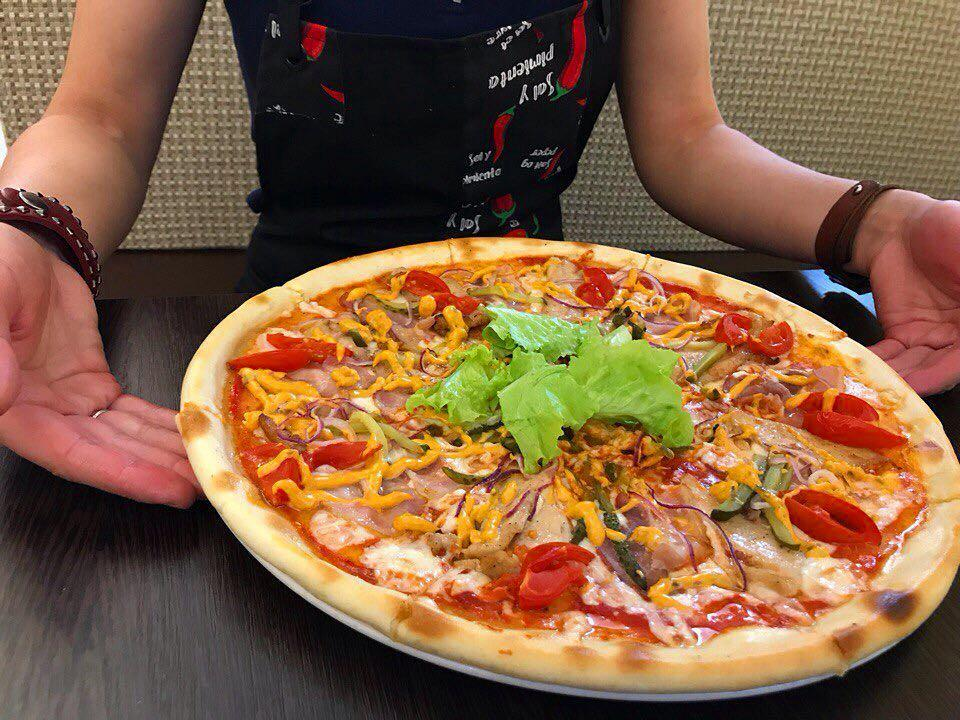Pizza: (175, 232, 960, 720)
Tomatoes: (239, 431, 374, 503), (797, 387, 916, 454), (781, 484, 891, 556), (513, 533, 597, 610), (214, 327, 343, 377), (396, 264, 486, 318), (711, 307, 797, 357), (572, 258, 620, 311)
